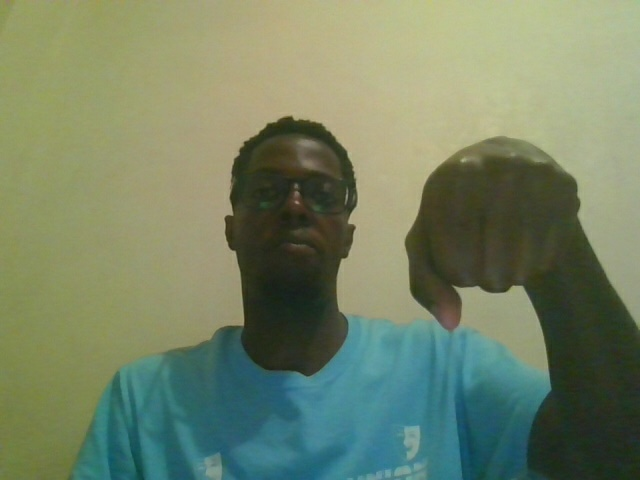Yes: (399, 121, 634, 363)
